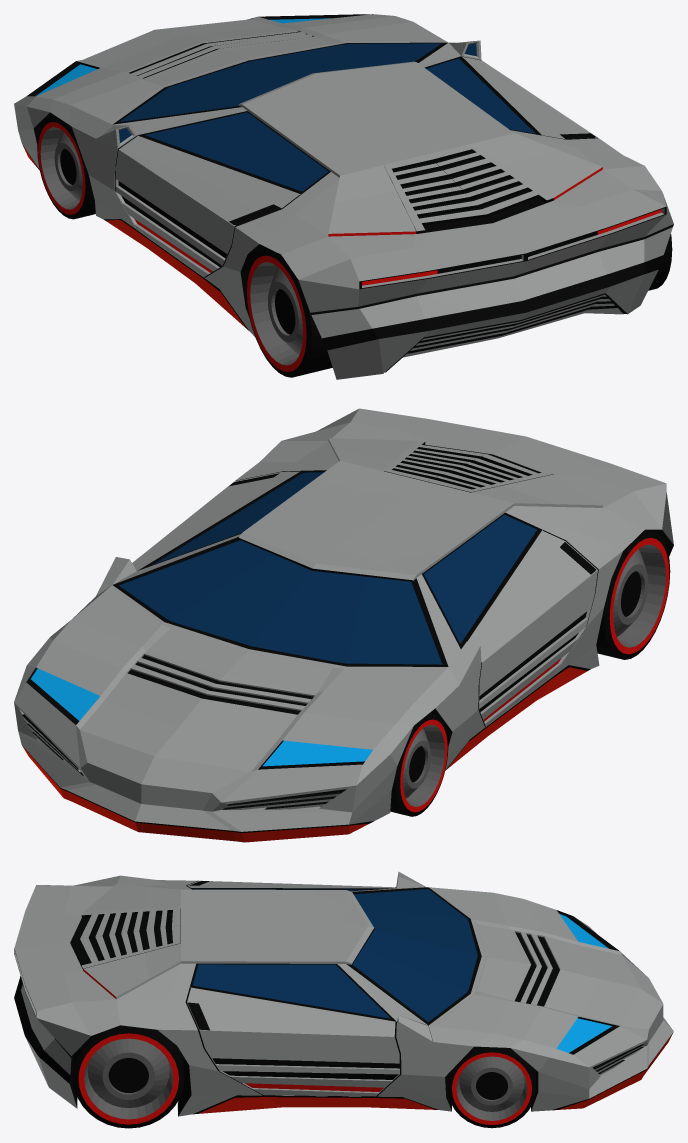
The model's file is low_poly_car.fbx.
The picture shows the model from 3 angles, top to bottom: view 1: azimuth 30°, elevation 25°; view 2: azimuth 150°, elevation 25°; view 3: azimuth 270°, elevation 25°; orthographic projection. The views are drawn at different scales.
Parts seen in each view (by area): view 1: Car, RearWheel_l, FrontWheel_l; view 2: Car, RearWheel_l, FrontWheel_l; view 3: Car, RearWheel_r, FrontWheel_r.
Part boxes in pixels (x1,y1,x2,y2): Car: (14,14,673,379); RearWheel_l: (246,248,332,377); FrontWheel_l: (37,116,95,219); Car: (14,408,673,842); RearWheel_l: (596,530,670,659); FrontWheel_l: (390,713,448,816); Car: (14,871,673,1116); RearWheel_r: (73,1025,184,1128); FrontWheel_r: (447,1046,536,1128).
Size of the model in its own units: 589 by 235 by 1092.
